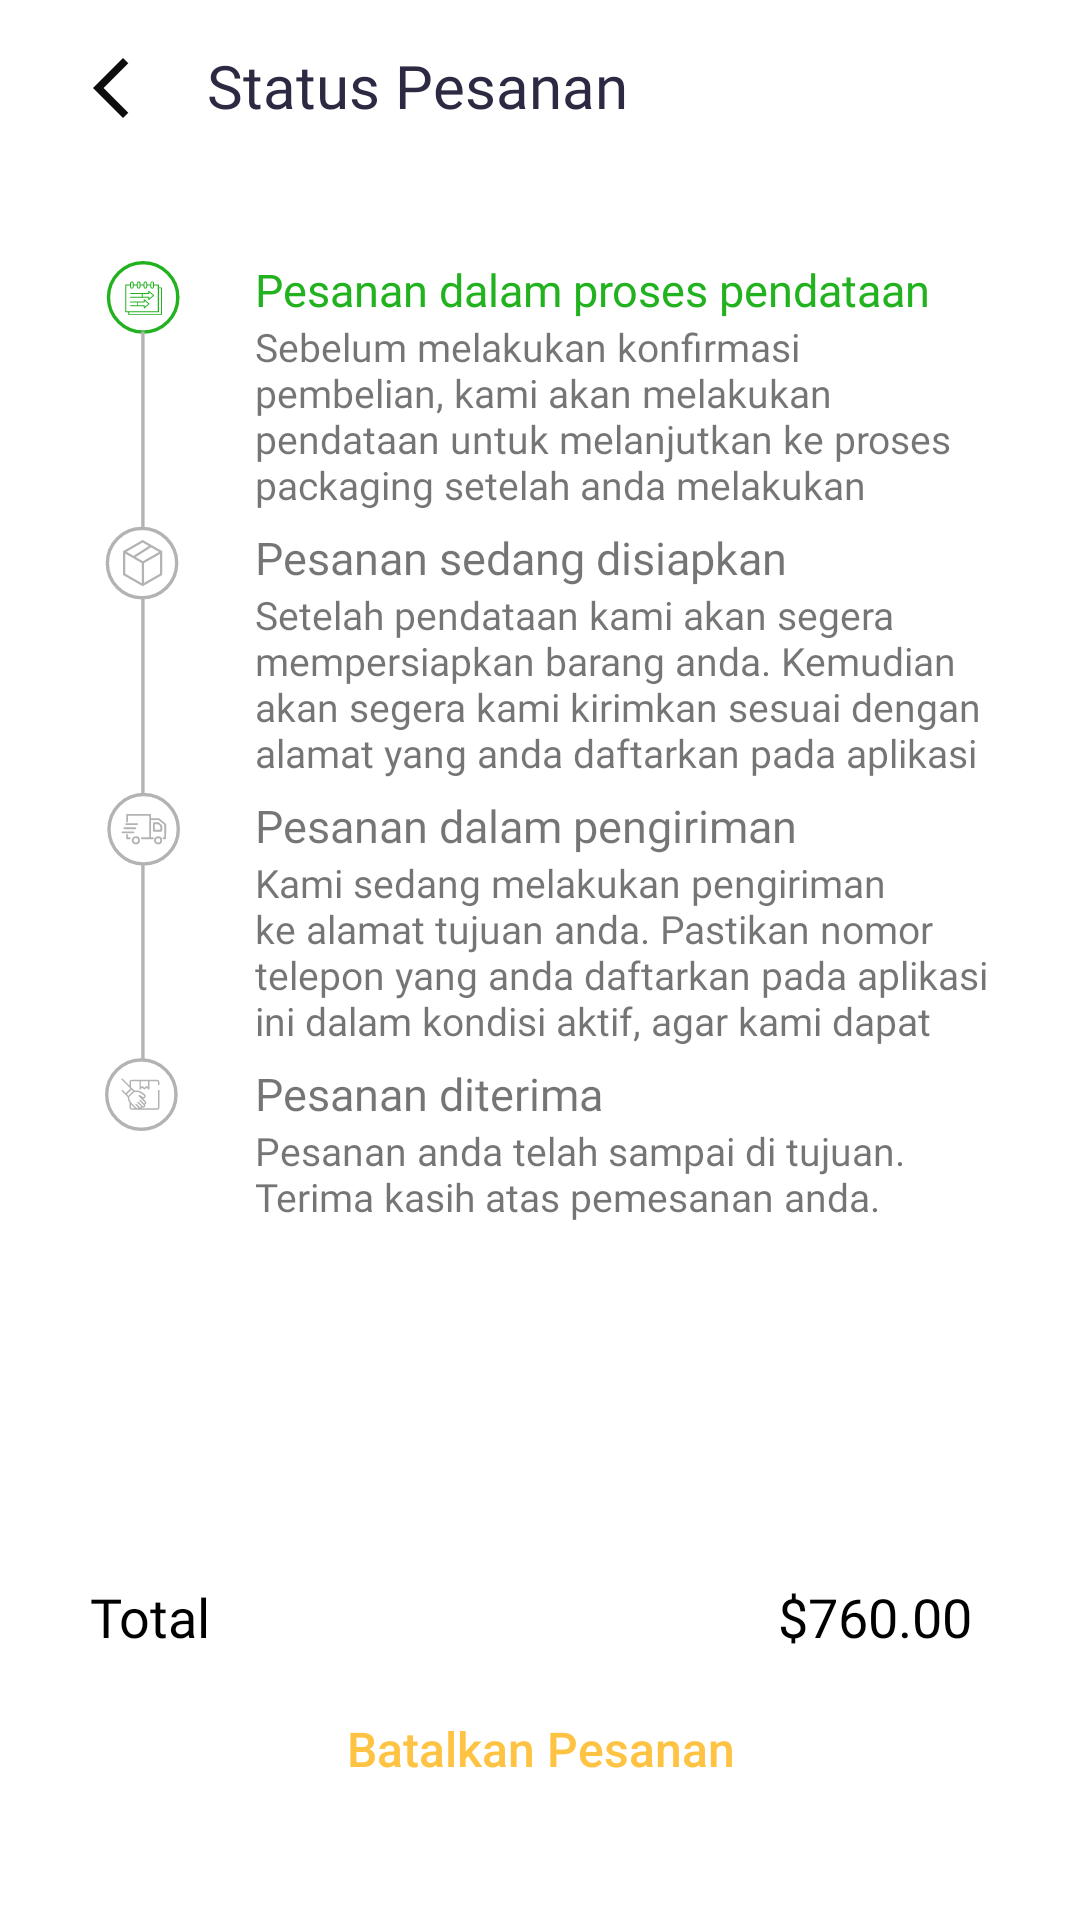

Icon bounding boxes for this 1080 x 1920 phone screenshot, format (x1, y1, x2, y2):
back: (93, 58, 128, 118)
